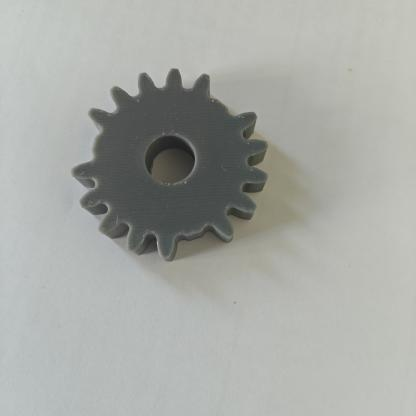defect: (48, 109, 126, 198), (154, 211, 234, 276), (193, 55, 260, 132)
gear: (39, 46, 283, 286)
